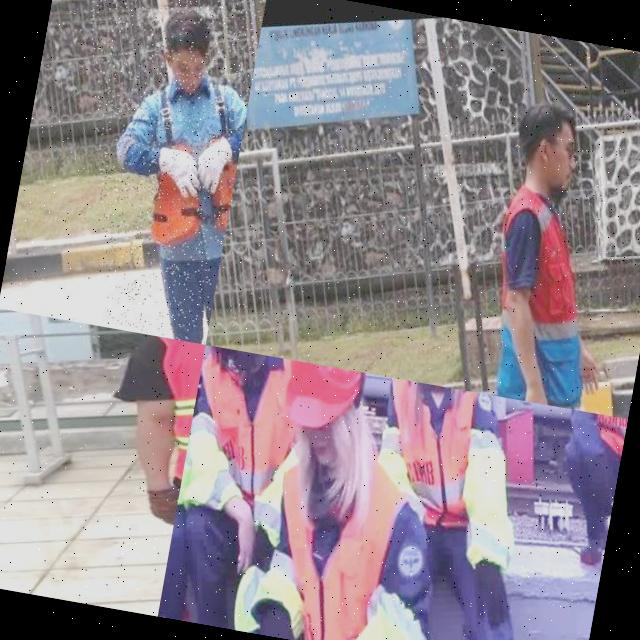helmet: (262, 356, 372, 437)
vest: (435, 142, 640, 414), (248, 422, 468, 640), (99, 57, 252, 266), (357, 376, 518, 551), (179, 344, 318, 513)
